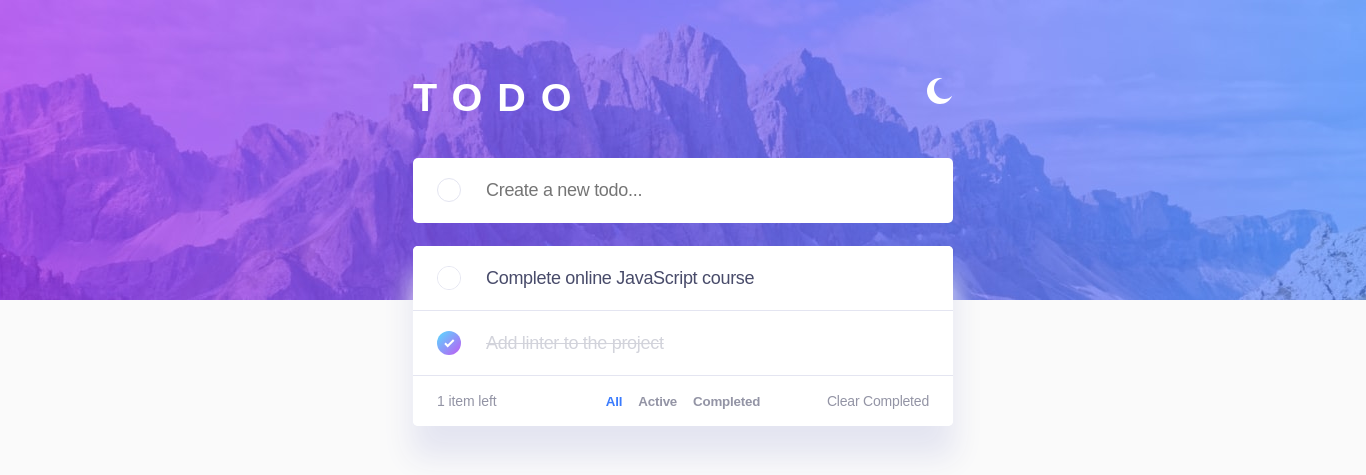
should show completed tasks
This screenshot has width=1366, height=475.
Click the button "Completed" at (727, 401), box [693,393,760,409]
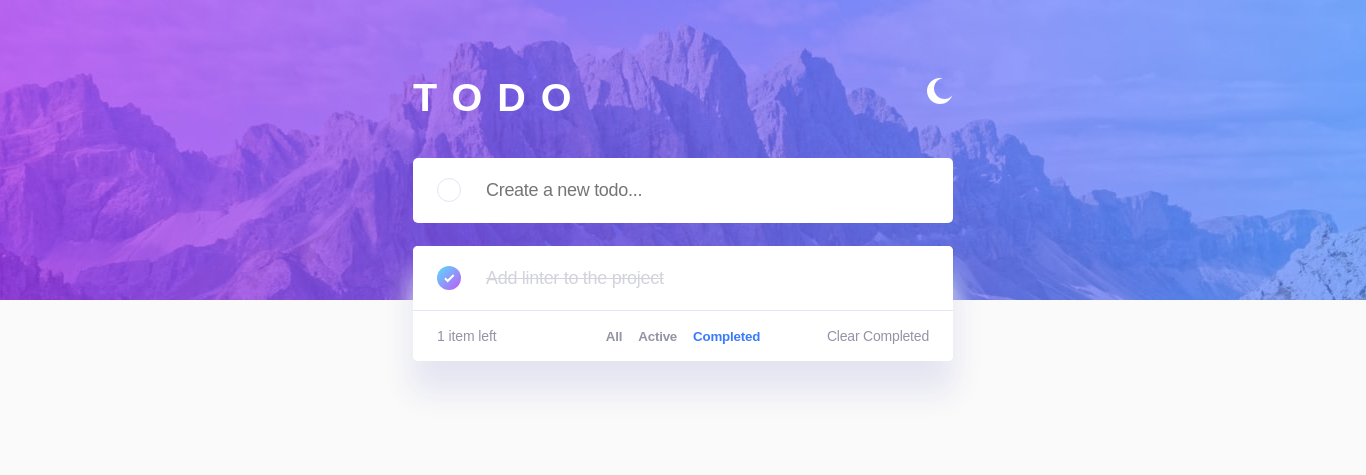
Expected: the checkbox labelled "Add linter to the project" is shown, [486,268,664,288]
Now the checkbox labelled "Complete online JavaScript course" is gone
